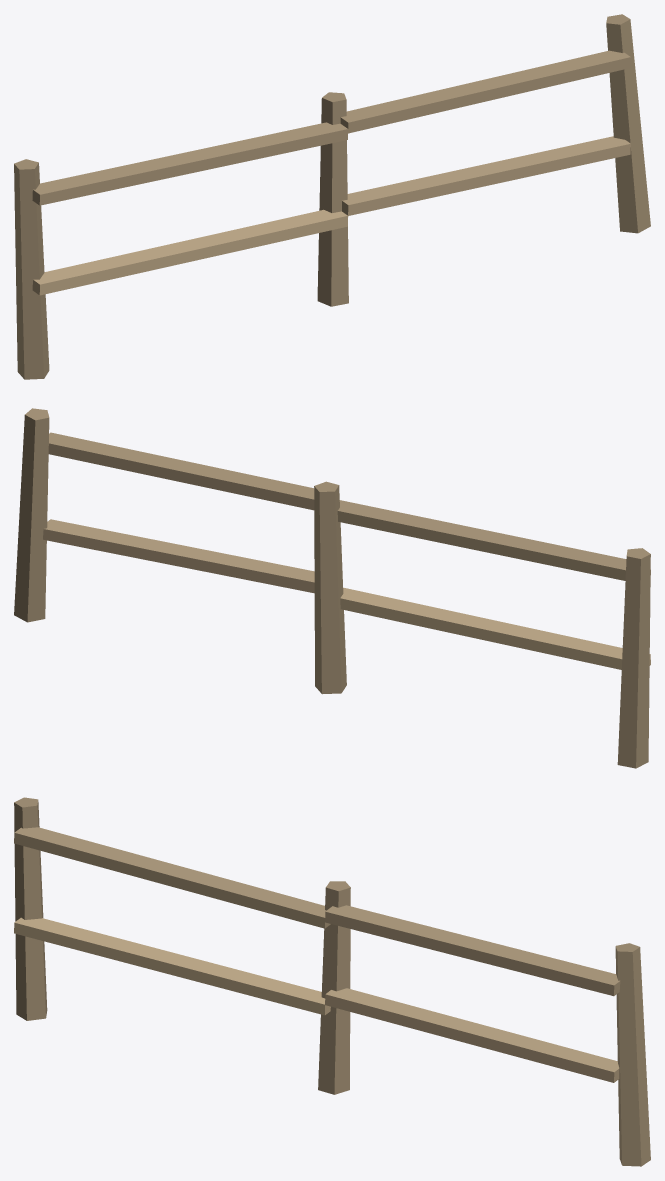
Rendered from fence.glb.
3 views of the same model, one above another, from view 1: azimuth 30°, elevation 25°; view 2: azimuth 150°, elevation 25°; view 3: azimuth 330°, elevation 25° (orthographic).
Parts seen in each view (by area): view 1: driftwood_d15, driftwood_d10, driftwood_d0, driftwood_d10.001, driftwood_d4; view 2: driftwood_d15, driftwood_d10, driftwood_d0, driftwood_d4, driftwood_d10.001; view 3: driftwood_d15, driftwood_d10, driftwood_d0, driftwood_d4, driftwood_d10.001.
Part boxes in pixels (bbox=[...]): driftwood_d15: bbox=[14, 14, 650, 379]; driftwood_d10: bbox=[32, 122, 348, 205]; driftwood_d0: bbox=[32, 209, 348, 295]; driftwood_d10.001: bbox=[340, 50, 630, 133]; driftwood_d4: bbox=[342, 136, 630, 215]; driftwood_d15: bbox=[14, 408, 650, 768]; driftwood_d10: bbox=[337, 500, 650, 580]; driftwood_d0: bbox=[340, 587, 650, 669]; driftwood_d4: bbox=[43, 519, 314, 593]; driftwood_d10.001: bbox=[48, 432, 314, 510]; driftwood_d15: bbox=[14, 797, 650, 1166]; driftwood_d10: bbox=[14, 827, 330, 928]; driftwood_d0: bbox=[14, 917, 330, 1015]; driftwood_d4: bbox=[325, 988, 619, 1082]; driftwood_d10.001: bbox=[325, 905, 620, 996].
Size of the model in its own units: 3.04 by 0.9741 by 0.197.
